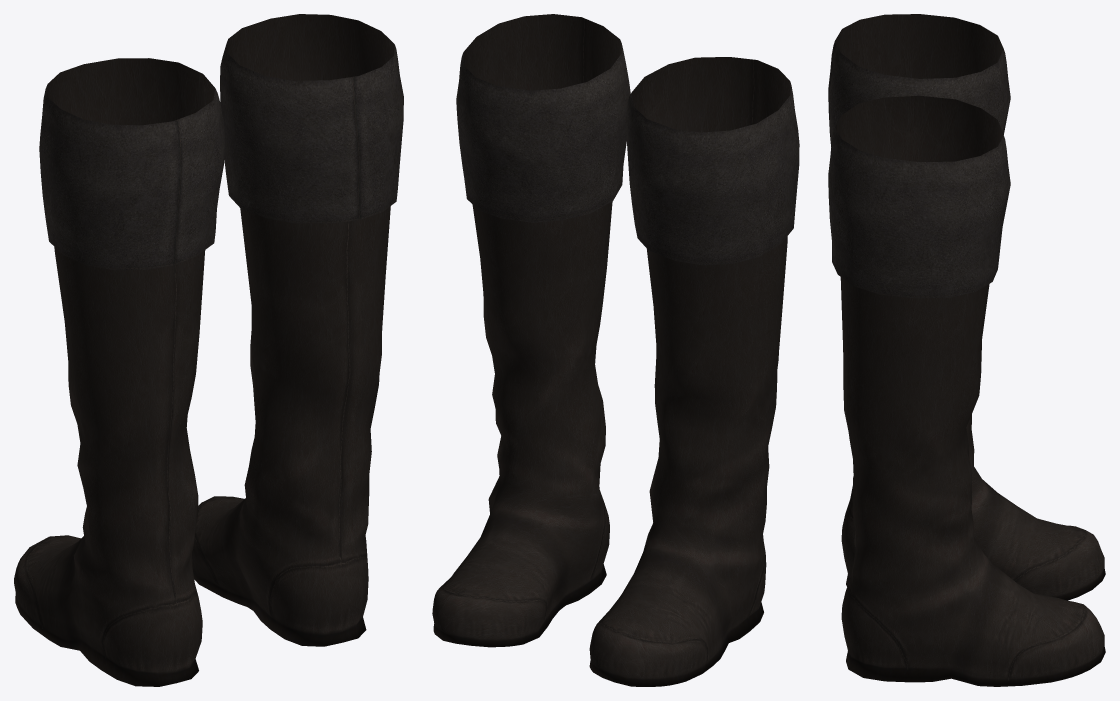
Rendered from HeavyBoots.fbx.
3 views of the same model, side by side, from view 1: azimuth 30°, elevation 25°; view 2: azimuth 150°, elevation 25°; view 3: azimuth 270°, elevation 25° (orthographic). The views are drawn at different scales.
Visible parts, largest first — view 1: HeavyBoots; view 2: HeavyBoots; view 3: HeavyBoots.
Boxes of the visible parts, bbox=[...] form: HeavyBoots: bbox=[14, 14, 403, 686]; HeavyBoots: bbox=[432, 14, 799, 686]; HeavyBoots: bbox=[828, 14, 1105, 686].
Size of the model in its own units: 32.53 by 53.28 by 24.7.
